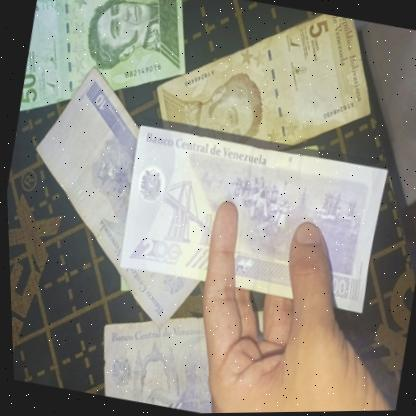fifty-front-vef: (14, 0, 200, 142)
five-front-vef: (146, 0, 389, 164)
ten-back-vef: (3, 58, 247, 339), (85, 279, 370, 415)
two_hundred-back-vef: (109, 121, 392, 318)
